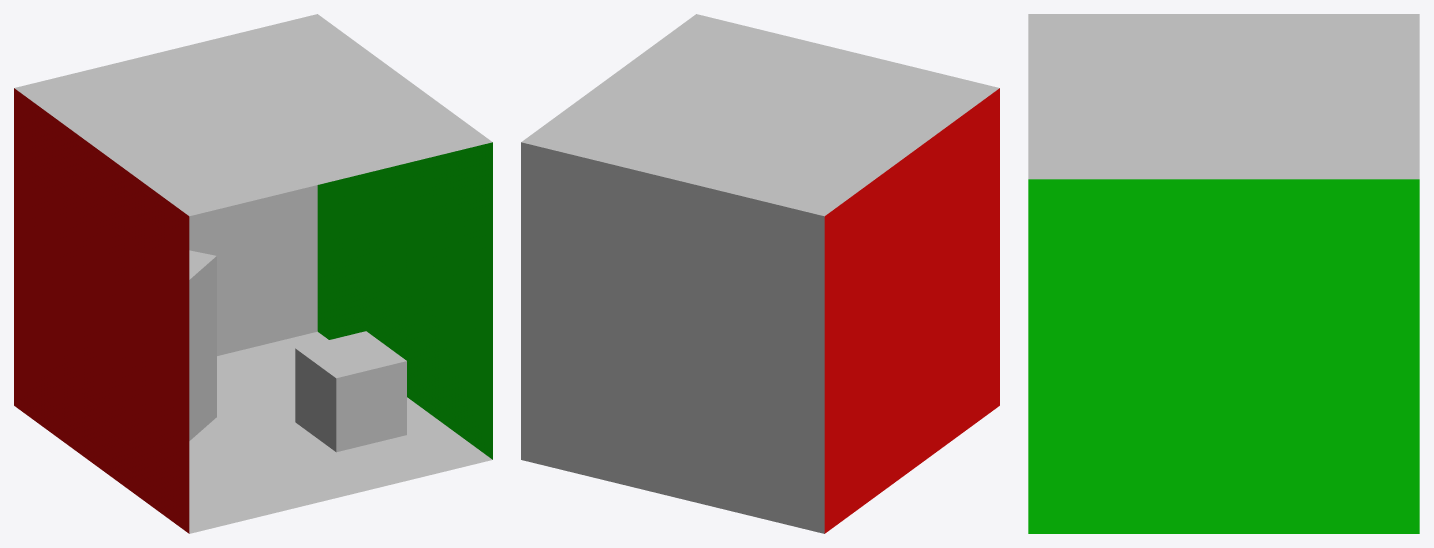
Rendered from cornell.obj.
3 views of the same model, side by side, from view 1: azimuth 30°, elevation 25°; view 2: azimuth 150°, elevation 25°; view 3: azimuth 270°, elevation 25° (orthographic). The views are drawn at different scales.
Visible parts, largest first — view 1: RedWall, Roof, GreenWall, Floor, Bottom, RightBox, LeftBox; view 2: Bottom, RedWall, Roof; view 3: GreenWall, Roof.
Boxes of the visible parts, bbox=[...] form: RedWall: bbox=[14, 88, 189, 533]; Roof: bbox=[14, 14, 492, 216]; GreenWall: bbox=[317, 142, 492, 459]; Floor: bbox=[189, 331, 492, 533]; Bottom: bbox=[189, 185, 317, 355]; RightBox: bbox=[295, 331, 406, 452]; LeftBox: bbox=[189, 250, 216, 440]; Bottom: bbox=[521, 142, 824, 533]; RedWall: bbox=[824, 88, 999, 533]; Roof: bbox=[521, 14, 999, 216]; GreenWall: bbox=[1028, 179, 1419, 533]; Roof: bbox=[1028, 14, 1419, 179].
Size of the model in its own units: 2 by 2 by 2.
